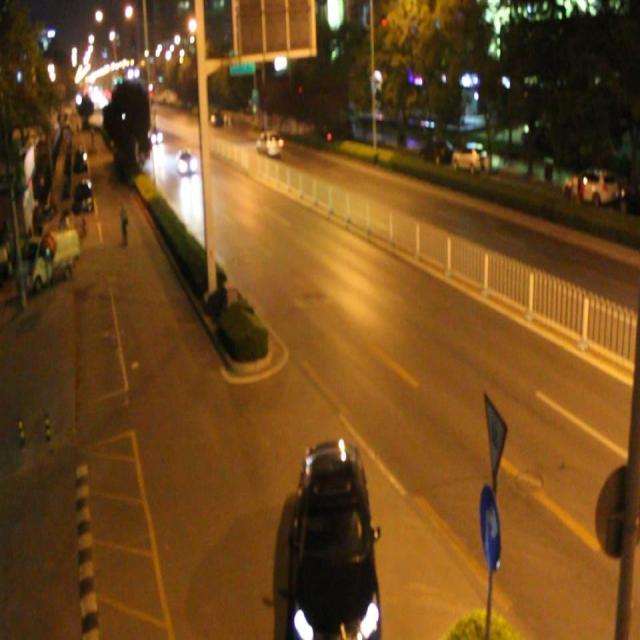car: (289, 437, 380, 640), (256, 131, 282, 158), (175, 148, 198, 176), (148, 126, 162, 144)
